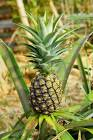Pineapple: (16, 13, 71, 114)
